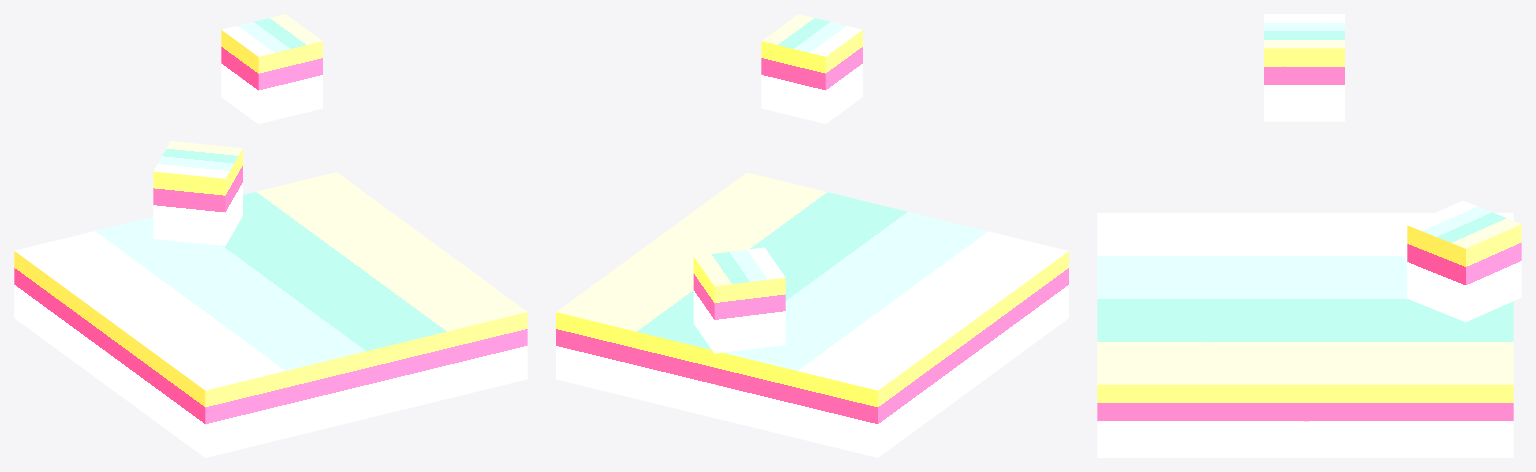
Rendered from gravity.gltf.
3 renders of one model, left to right at view 1: azimuth 30°, elevation 25°; view 2: azimuth 150°, elevation 25°; view 3: azimuth 270°, elevation 25°, orthographic. The views are drawn at different scales.
Visible parts, largest first — view 1: ground, cube, other; view 2: ground, cube, other; view 3: ground, other, cube.
Part boxes in pixels (x1,y1,x2,y2): ground: [14, 172, 527, 457]; cube: [221, 14, 322, 124]; other: [153, 141, 242, 245]; ground: [556, 172, 1068, 457]; cube: [761, 14, 862, 123]; other: [693, 247, 785, 353]; ground: [1097, 213, 1513, 457]; other: [1407, 200, 1521, 321]; cube: [1264, 14, 1344, 121].
Size of the model in its own units: 10.02 by 9.3 by 10.48.
